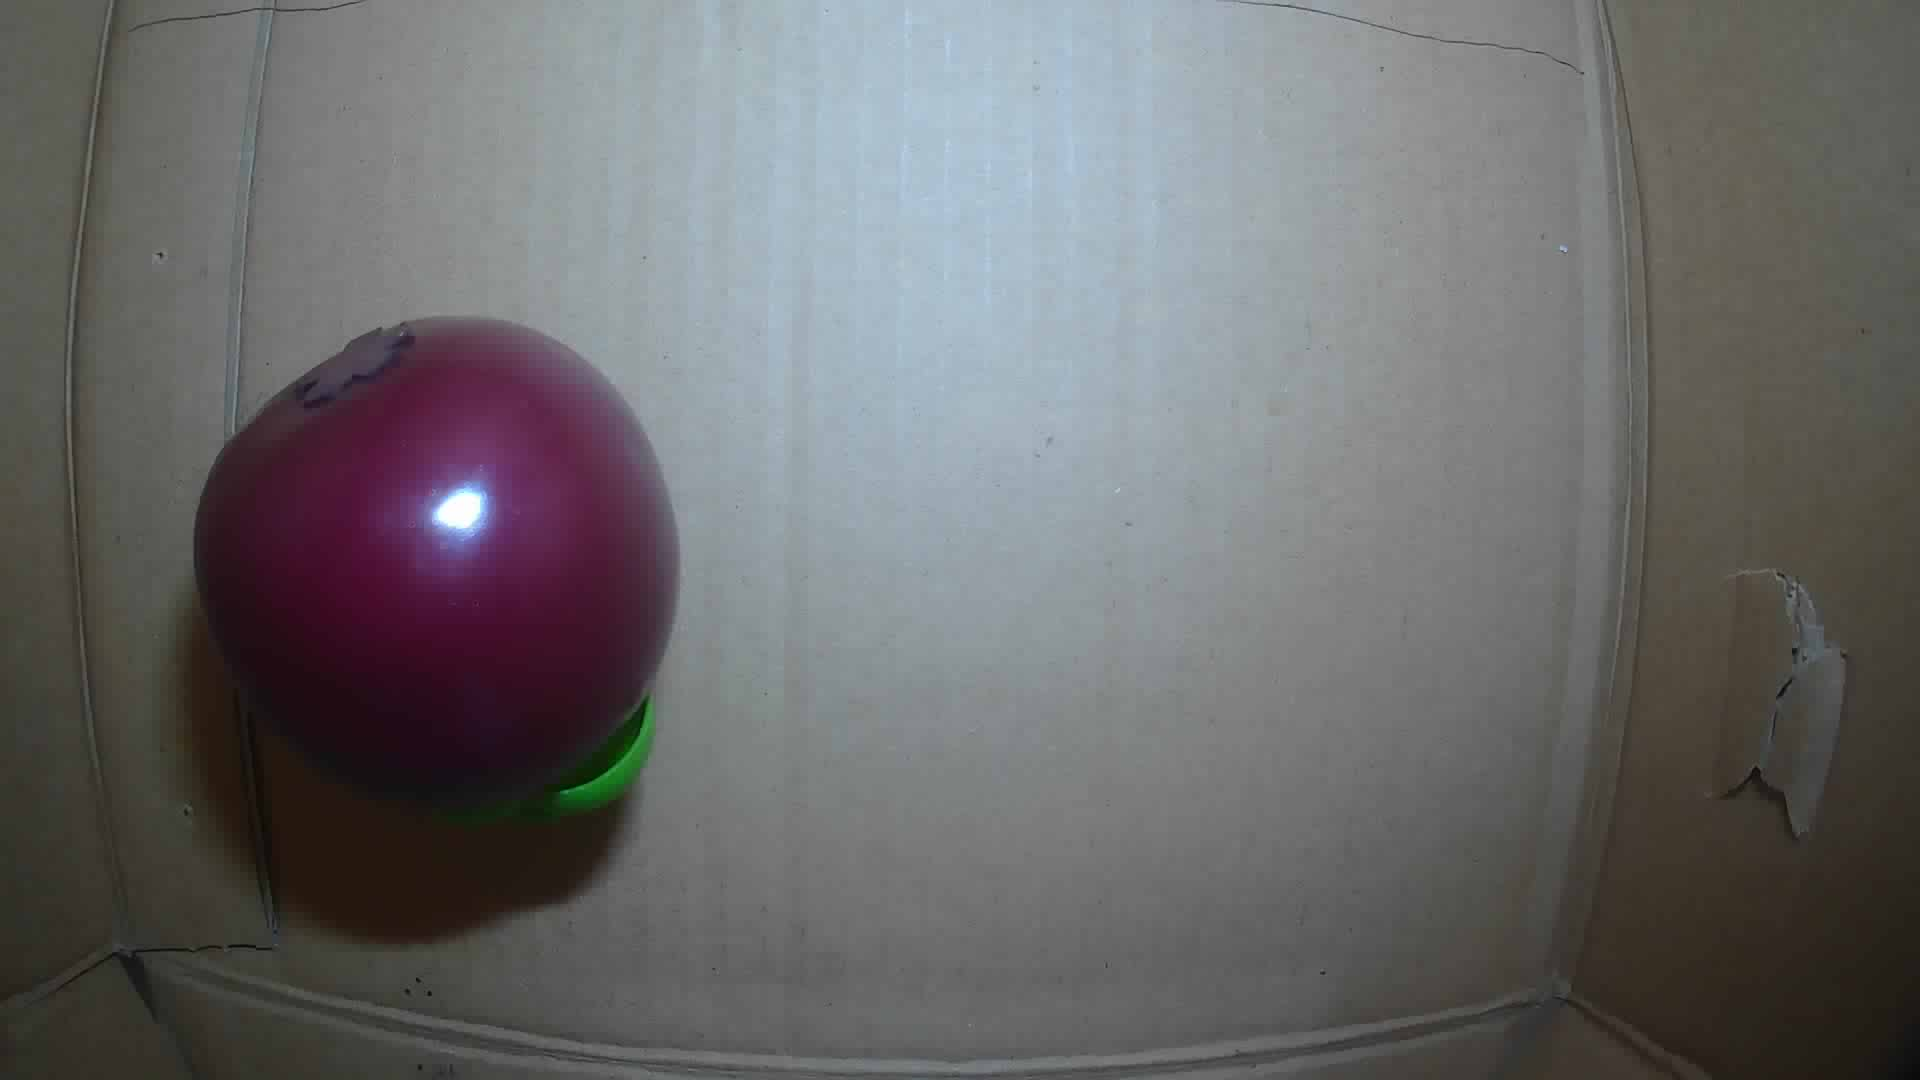mangosteen: (194, 313, 684, 823)
